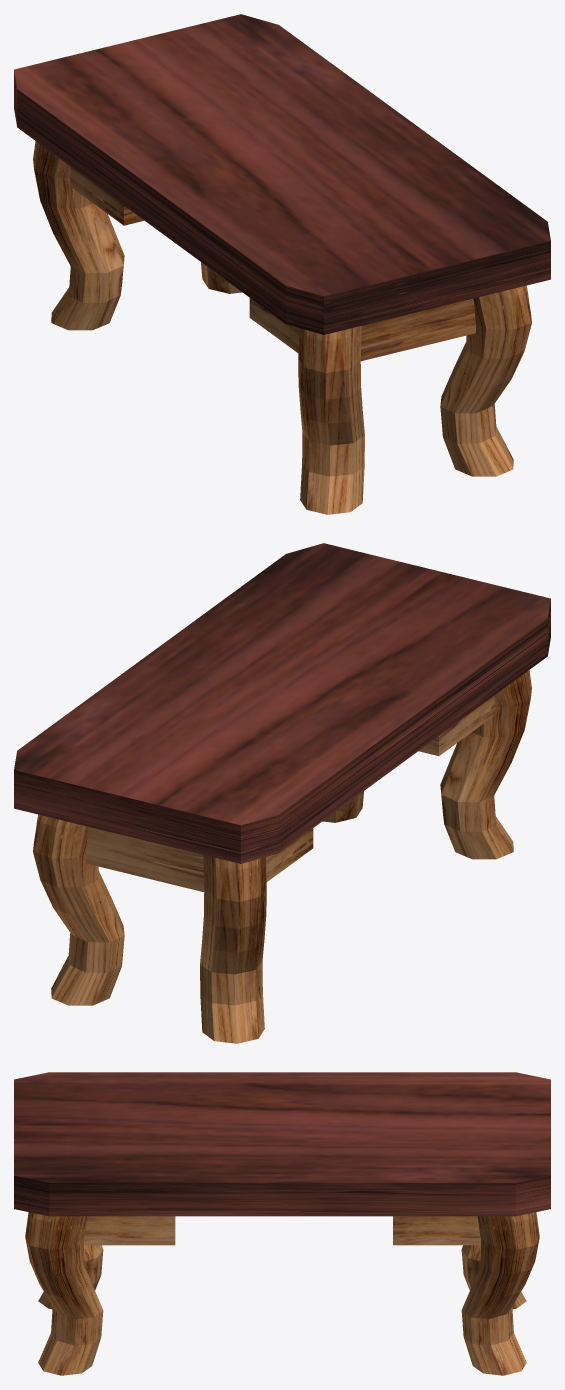
The model's file is Desk.fbx.
3 views of the same model, one above another, from view 1: azimuth 30°, elevation 25°; view 2: azimuth 150°, elevation 25°; view 3: azimuth 270°, elevation 25° (orthographic). The views are drawn at different scales.
Visible parts, largest first — view 1: Cube.034, Cylinder.027, Cube.035, Cube.036; view 2: Cube.034, Cylinder.027, Cube.036, Cube.035; view 3: Cube.034, Cylinder.027, Cube.035, Cube.036.
Part boxes in pixels (left/top/right/bottom): Cube.034: left=14, top=14, right=550, bottom=334; Cylinder.027: left=33, top=141, right=531, bottom=514; Cube.035: left=249, top=298, right=475, bottom=361; Cube.036: left=70, top=167, right=143, bottom=225; Cube.034: left=14, top=543, right=550, bottom=863; Cylinder.027: left=33, top=670, right=531, bottom=1043; Cube.036: left=86, top=827, right=313, bottom=891; Cube.035: left=418, top=696, right=494, bottom=755; Cube.034: left=14, top=1072, right=550, bottom=1216; Cylinder.027: left=25, top=1212, right=539, bottom=1375; Cube.035: left=84, top=1216, right=175, bottom=1245; Cube.036: left=393, top=1216, right=480, bottom=1245.
Bounding box in the file's own units: 89.69 × 184 × 77.25.
